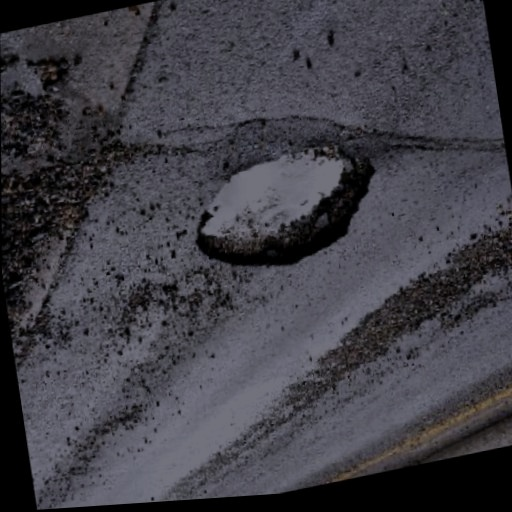pothole: (182, 135, 390, 290)
